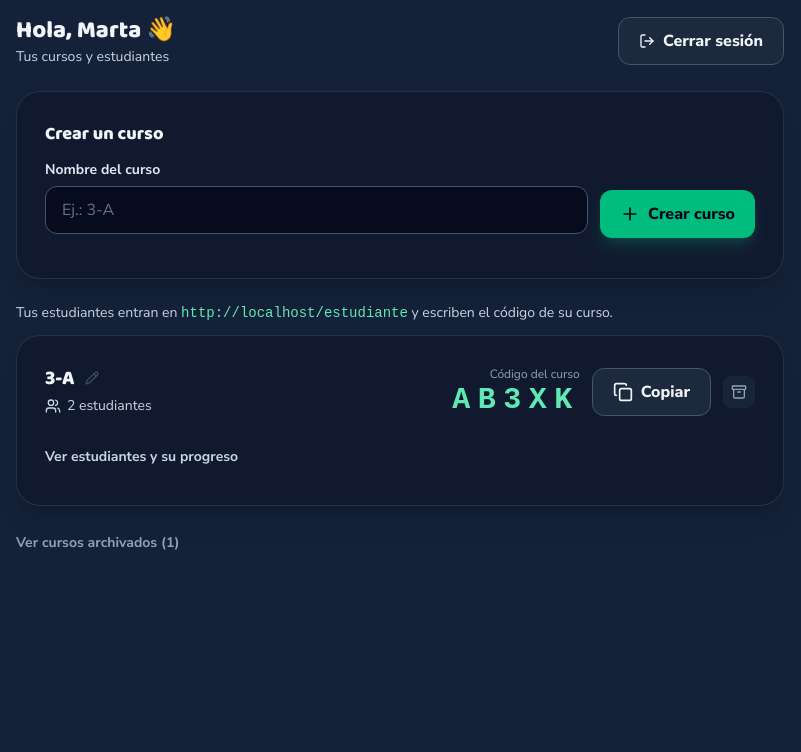
Test: TeacherPanel con datos › borrar estudiante: pide confirmación y recién entonces borra
Expected: the text "Tus cursos y estudiantes" is shown, [16,47,176,67]
Click the heading "Ver estudiantes y su progreso" at {"x": 142, "y": 456}, box [45,447,238,466]
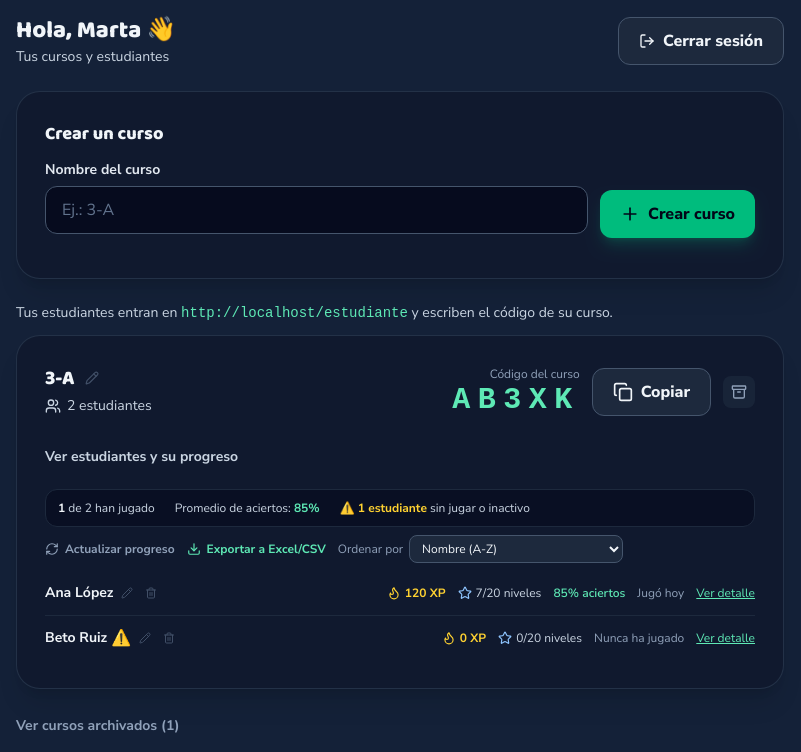
Expected: the text "120 XP" is shown, [387,585,446,601]
Click the button named "Quitar a Ana López del curso" at {"x": 151, "y": 593}, box [141,583,161,603]
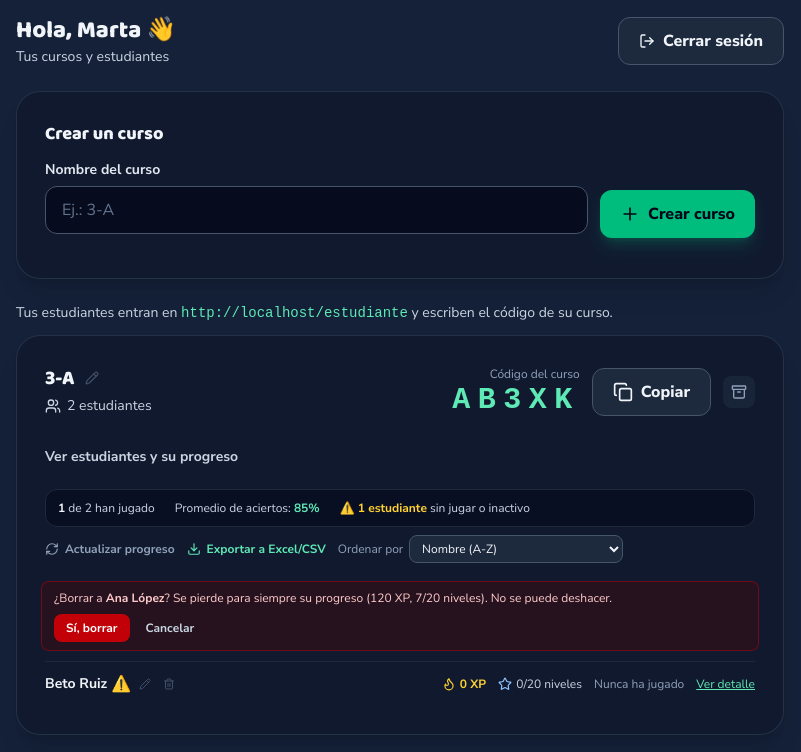
Expected: the text "Se pierde para siempre" is shown, [164,590,296,606]
Click the button "Sí, borrar" at {"x": 92, "y": 628}, box [54,614,130,642]
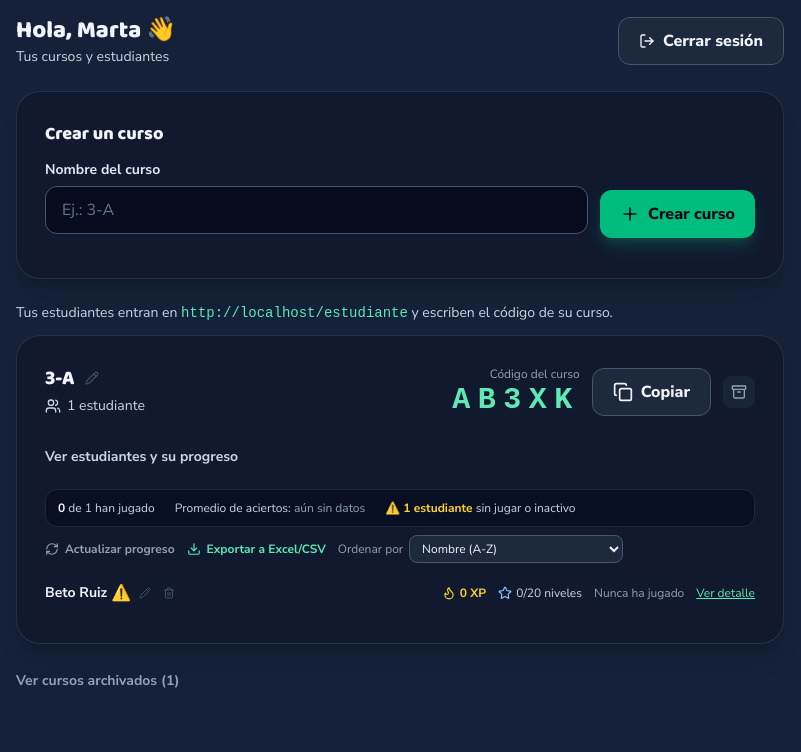
Expected: the text "Ana López" is gone
